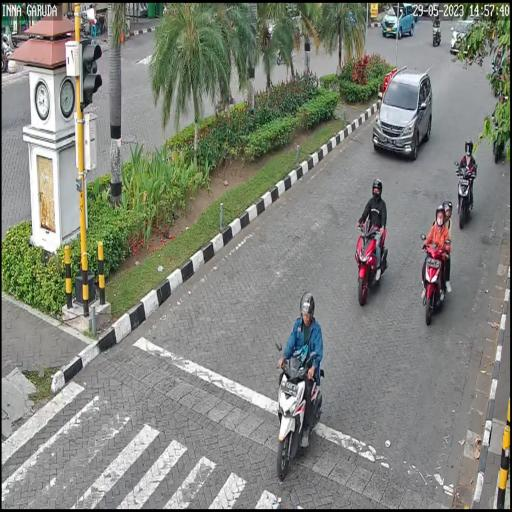mobil: (373, 68, 431, 159)
motor: (272, 334, 326, 484), (353, 214, 391, 310), (417, 230, 455, 322), (454, 158, 478, 231)
